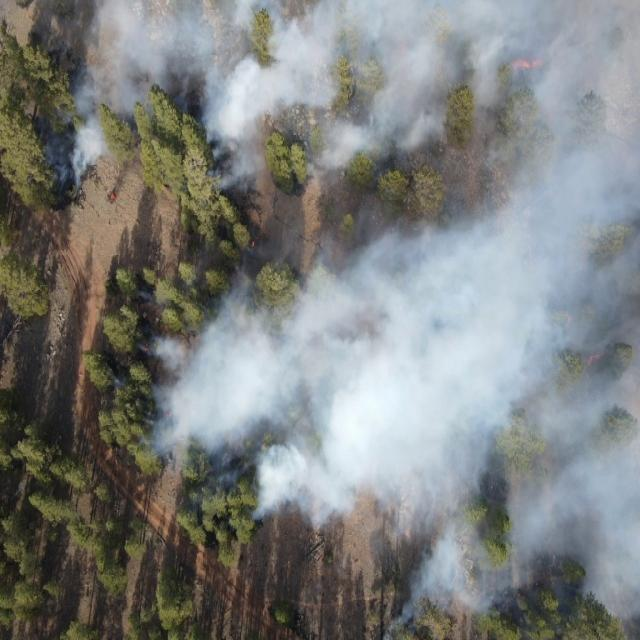fire: (506, 58, 542, 70), (586, 351, 604, 365), (565, 313, 577, 332), (162, 409, 176, 421), (108, 189, 118, 203), (143, 342, 150, 352), (250, 241, 258, 248)
smoke: (432, 198, 640, 638), (197, 0, 640, 198), (206, 220, 430, 540), (72, 0, 196, 118), (135, 326, 204, 479), (31, 117, 100, 192), (378, 551, 432, 640)
